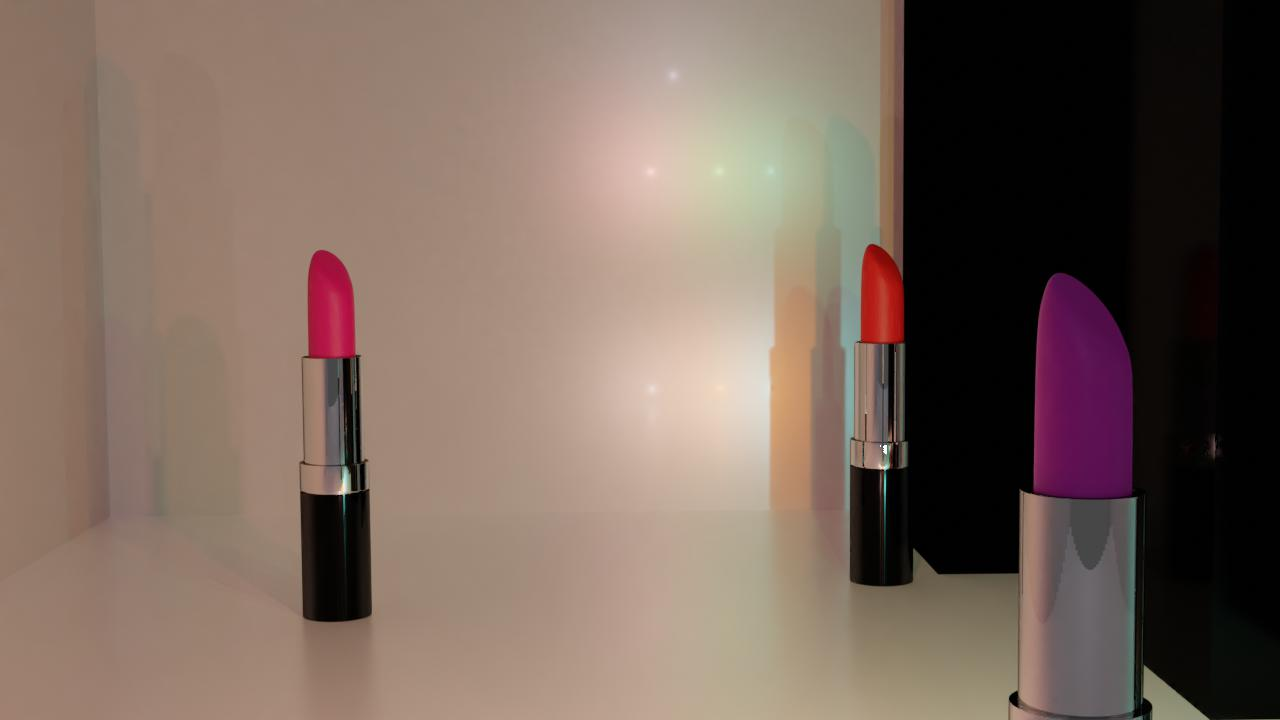CLASSIFIER_NAME: (1003, 263, 1156, 720), (298, 245, 374, 622), (848, 239, 915, 586)
